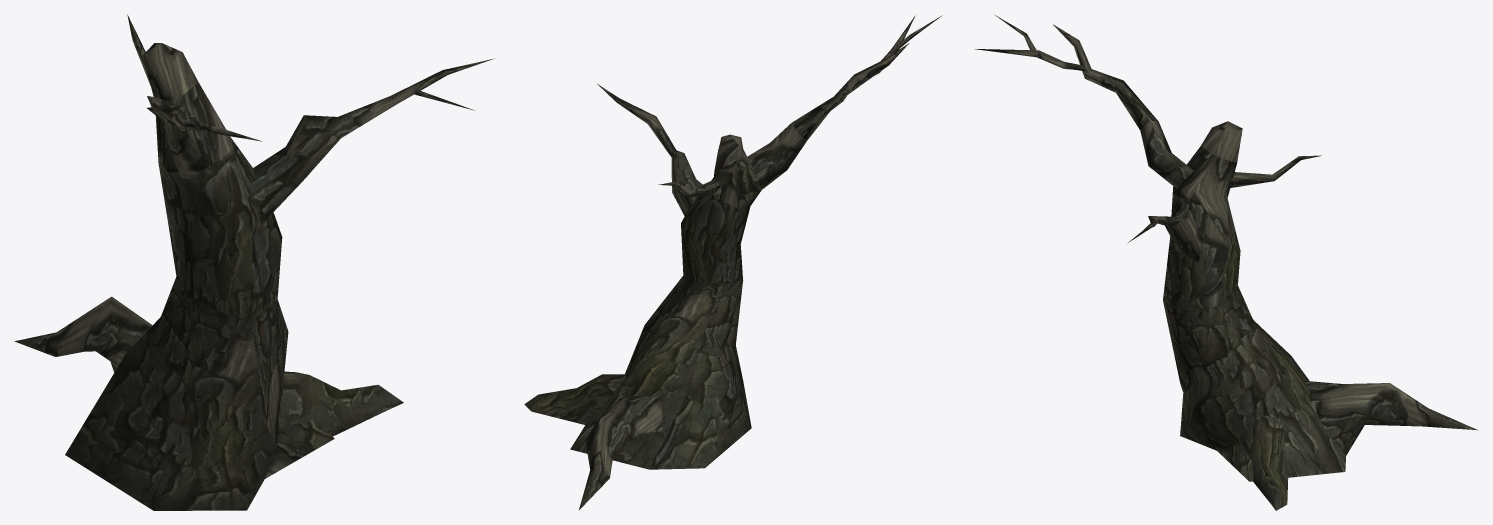
File: D_shu006.fbx
3 renders of one model, left to right at view 1: azimuth 30°, elevation 25°; view 2: azimuth 150°, elevation 25°; view 3: azimuth 270°, elevation 25°, orthographic. The views are drawn at different scales.
Visible parts, largest first — view 1: D_shu006; view 2: D_shu006; view 3: D_shu006.
Part boxes in pixels (bbox=[...]): D_shu006: bbox=[14, 14, 493, 510]; D_shu006: bbox=[524, 15, 942, 510]; D_shu006: bbox=[975, 15, 1477, 510].
Size of the model in its own units: 379 by 464 by 588.
